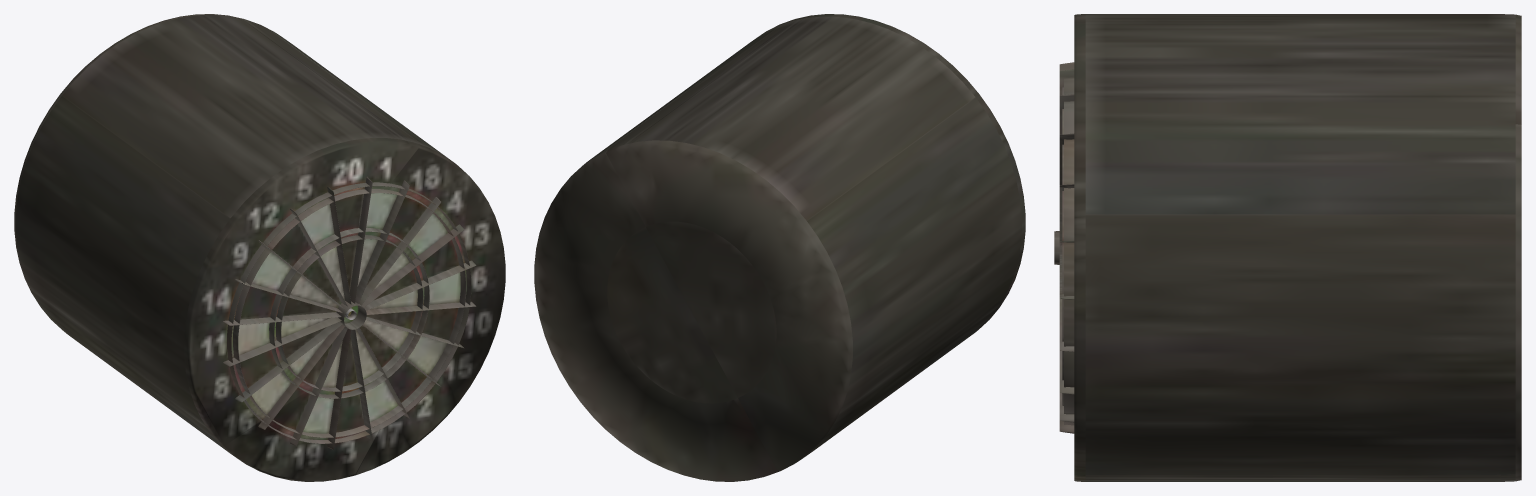
The model's file is ph-dartboard.glb.
3 views of the same model, side by side, from view 1: azimuth 30°, elevation 25°; view 2: azimuth 150°, elevation 25°; view 3: azimuth 270°, elevation 25° (orthographic). The views are drawn at different scales.
Parts seen in each view (by area): view 1: dartboard; view 2: dartboard; view 3: dartboard.
Boxes of the visible parts, bbox=[...] form: dartboard: bbox=[14, 14, 505, 481]; dartboard: bbox=[534, 14, 1025, 481]; dartboard: bbox=[1054, 14, 1521, 481].
Bounding box in the file's own units: 1 × 1 × 1.
1 material, 1 textured.
